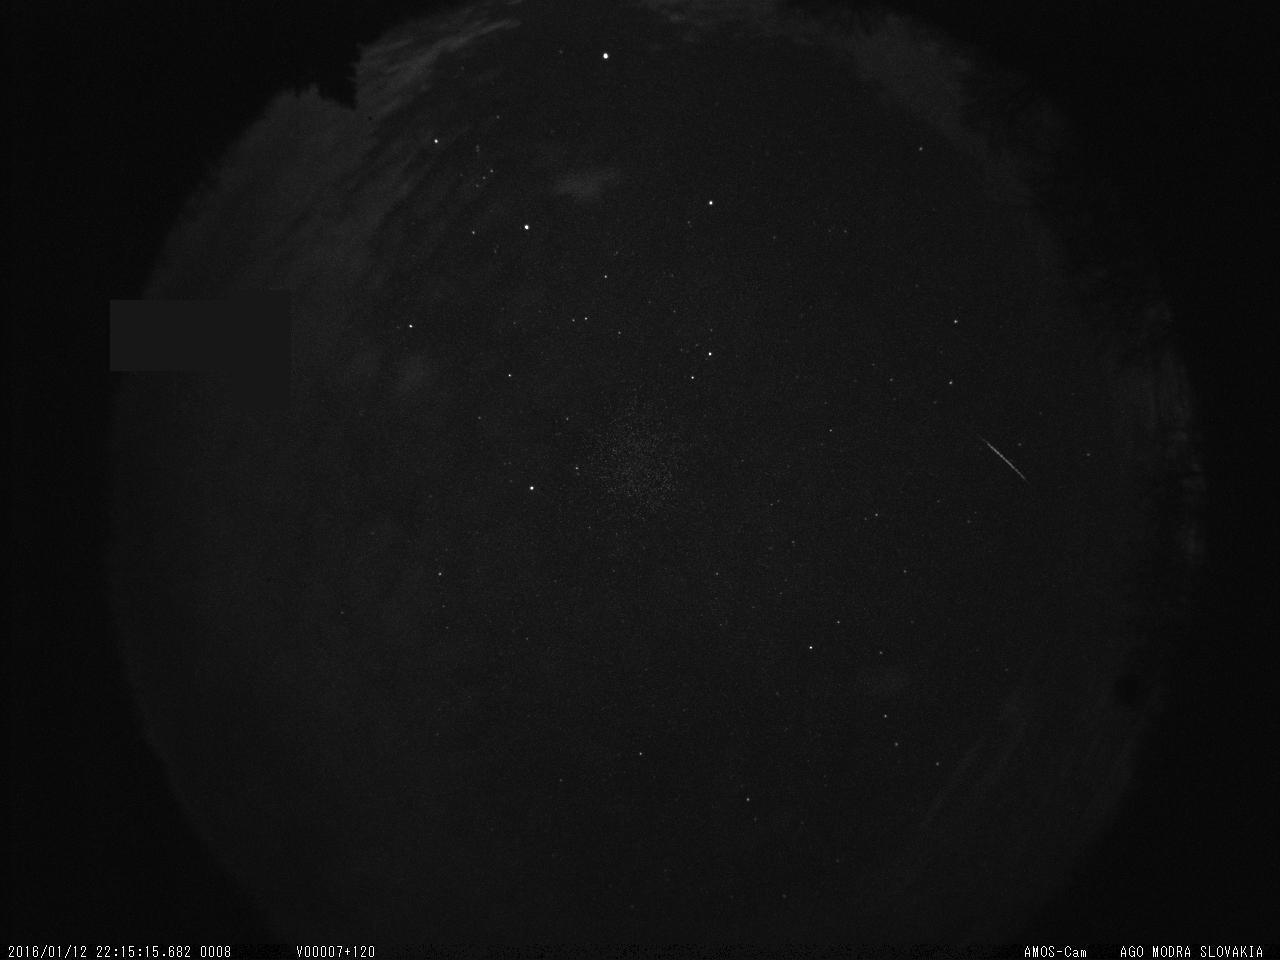meteor: (952, 411, 1054, 489)
